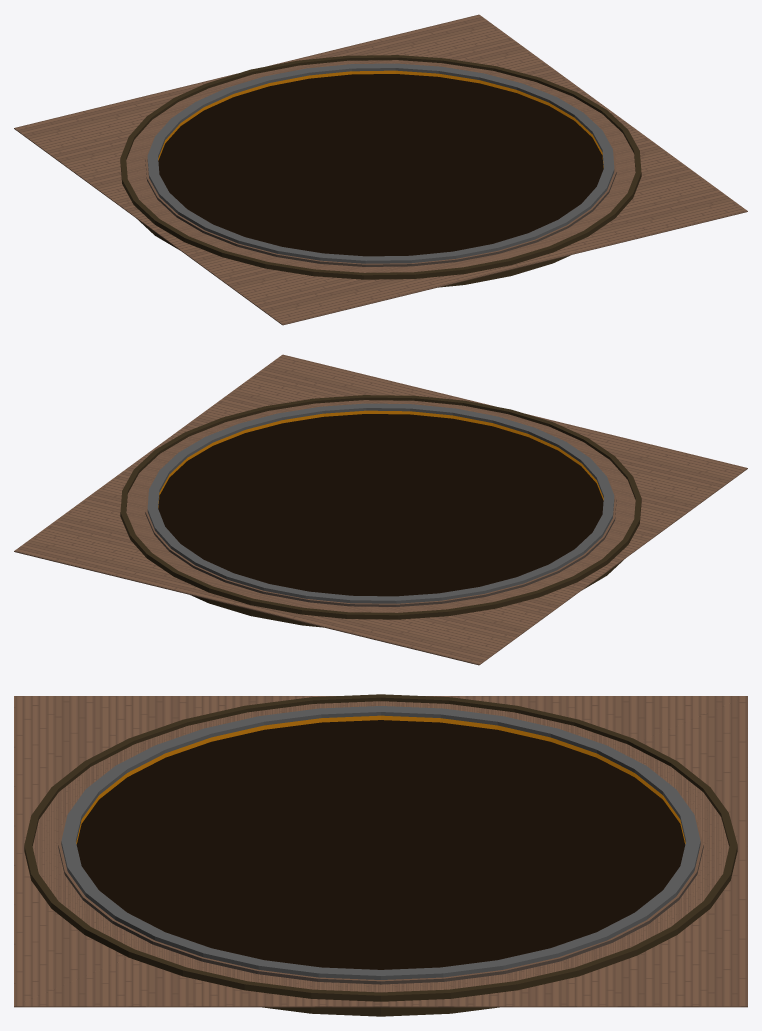
3 renders of one model, top to bottom at view 1: azimuth 30°, elevation 25°; view 2: azimuth 150°, elevation 25°; view 3: azimuth 270°, elevation 25°, orthographic. The views are drawn at different scales.
Visible parts, largest first — view 1: Cylinder.037, Plane.001; view 2: Cylinder.037, Plane.001; view 3: Cylinder.037, Plane.001.
Part boxes in pixels (bbox=[...]): Cylinder.037: bbox=[120, 55, 641, 287]; Plane.001: bbox=[14, 14, 747, 325]; Cylinder.037: bbox=[120, 395, 641, 627]; Plane.001: bbox=[14, 354, 747, 665]; Cylinder.037: bbox=[24, 694, 737, 1016]; Plane.001: bbox=[14, 696, 747, 1007].
Size of what is drawn, in the model's own units: 48 by 1.8 by 48.
3 materials, 3 textured.
